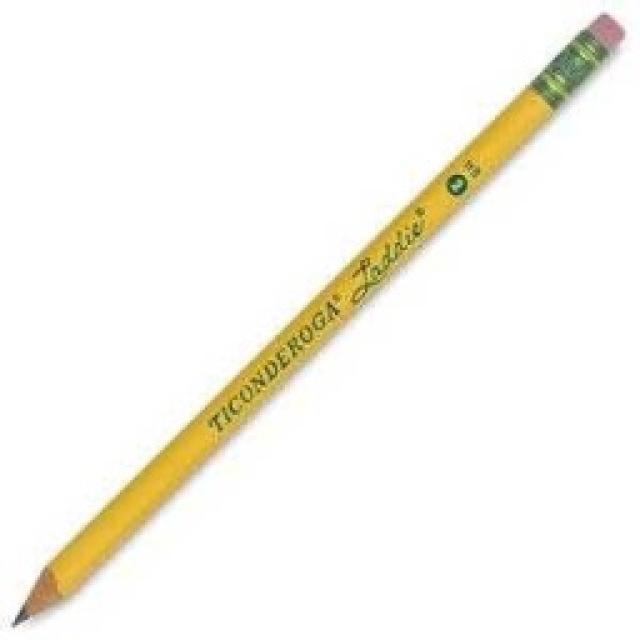pencil: (5, 5, 630, 630)
